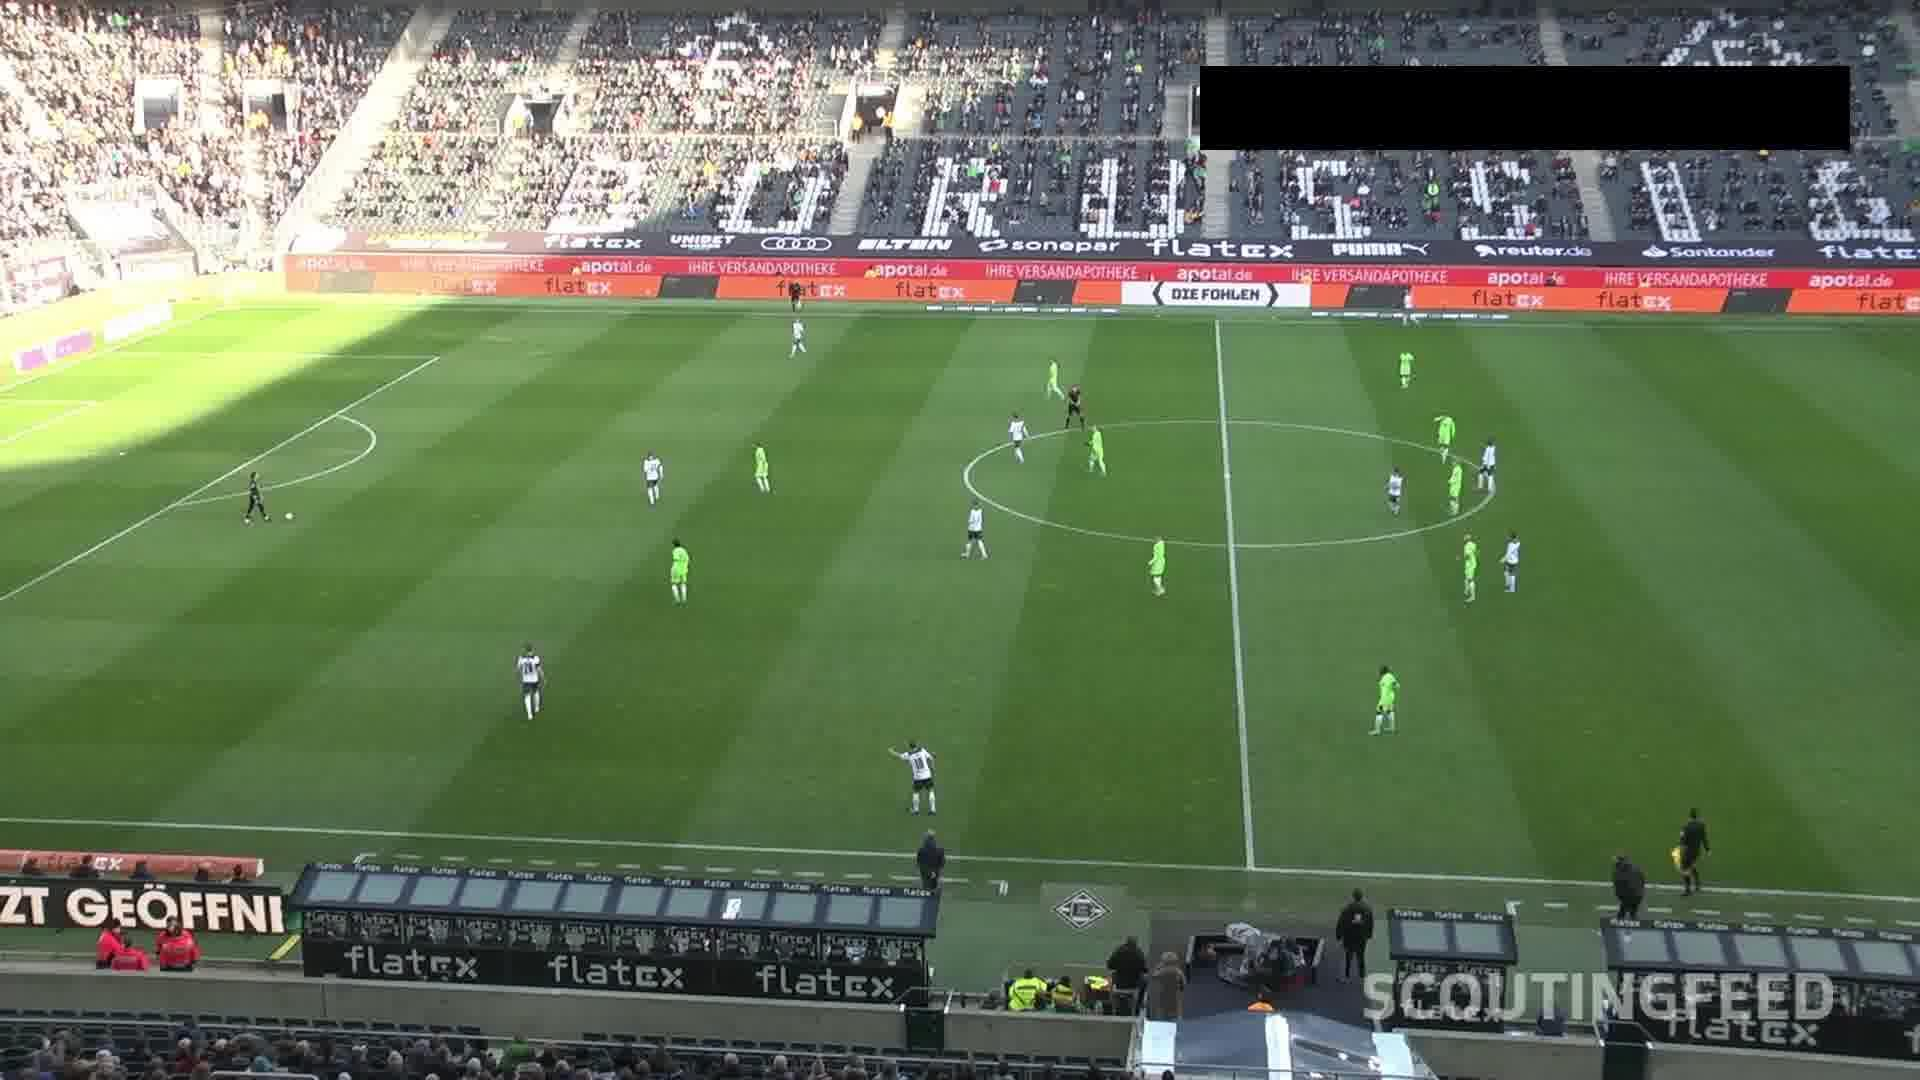football: (284, 512, 294, 521)
